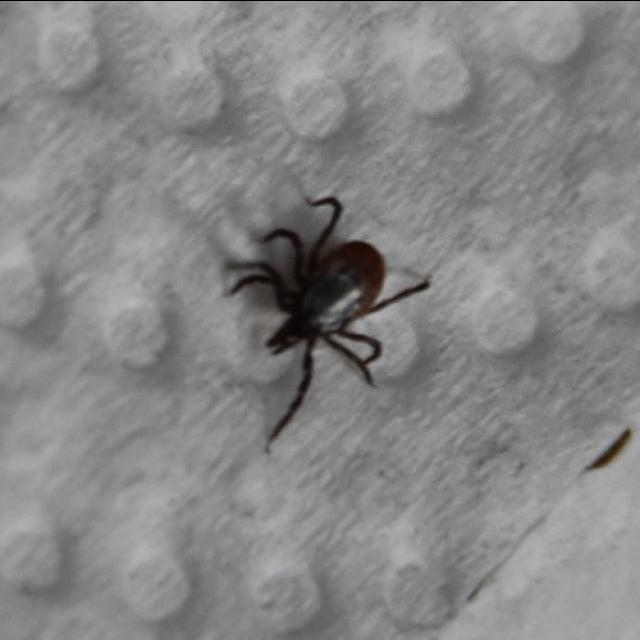Ixodes Ricinus-F: (221, 195, 425, 449)
